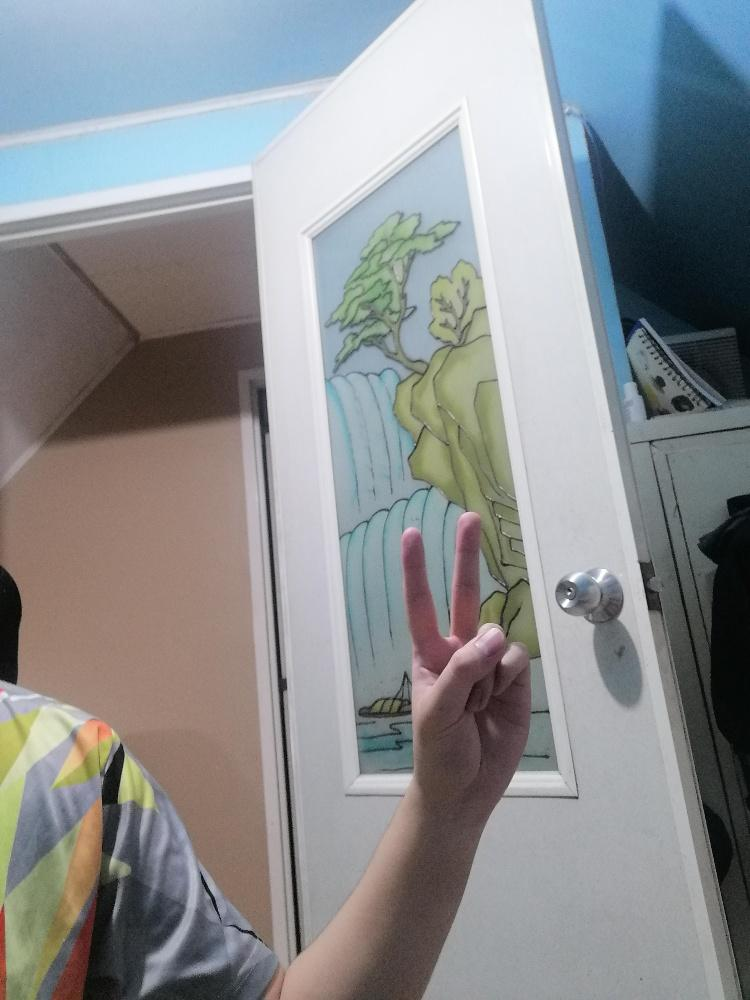v: (399, 510, 531, 788)
